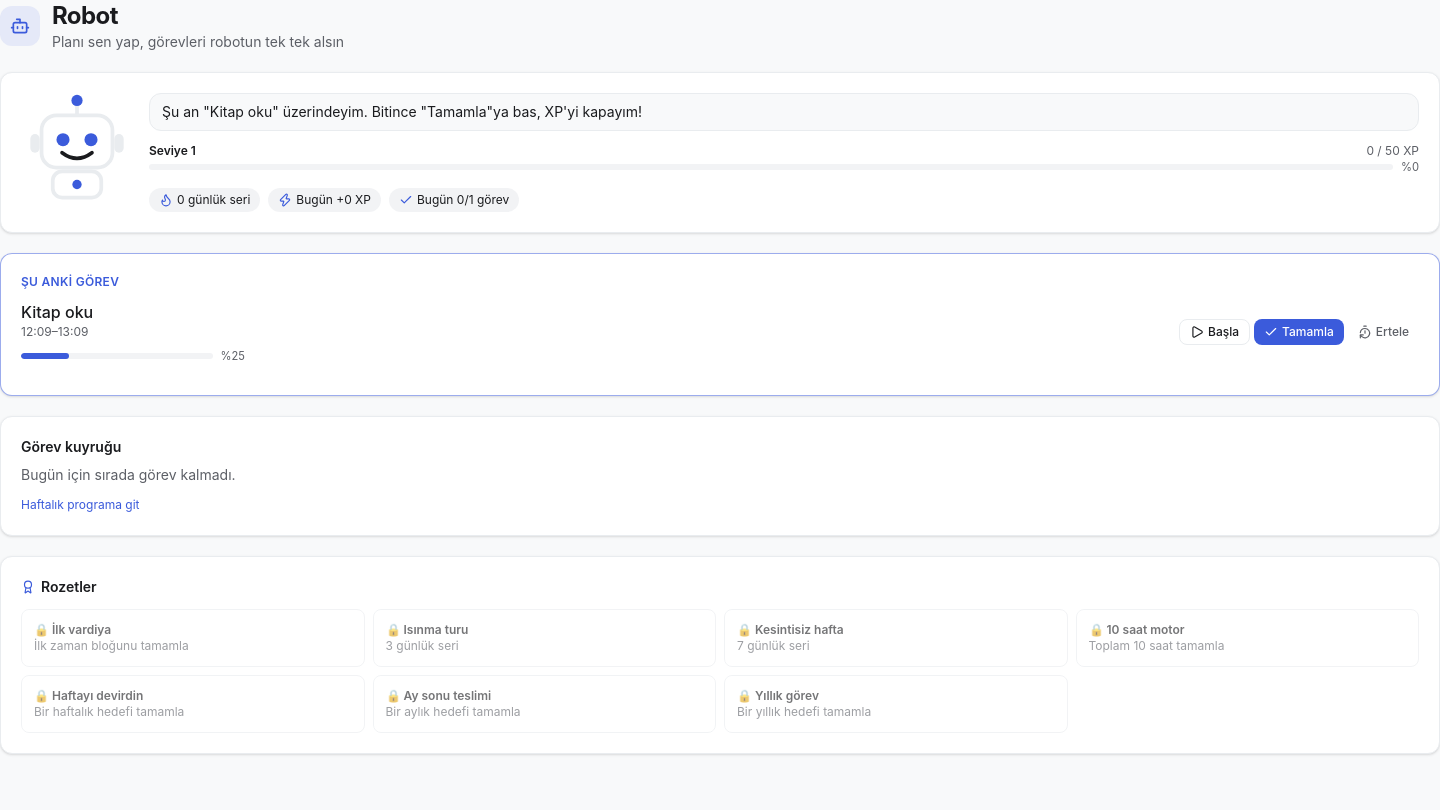
RobotPage › şu anki görevi gösterir, tamamlayınca XP kutlaması yapar
The width and height of the screenshot is (1440, 810).
Expected: the text "Şu an \"Kitap oku\" üzerindeyim" is shown, [162,103,642,120]
Click the button "Tamamla" at point(1299, 332), box [1254,319,1344,345]
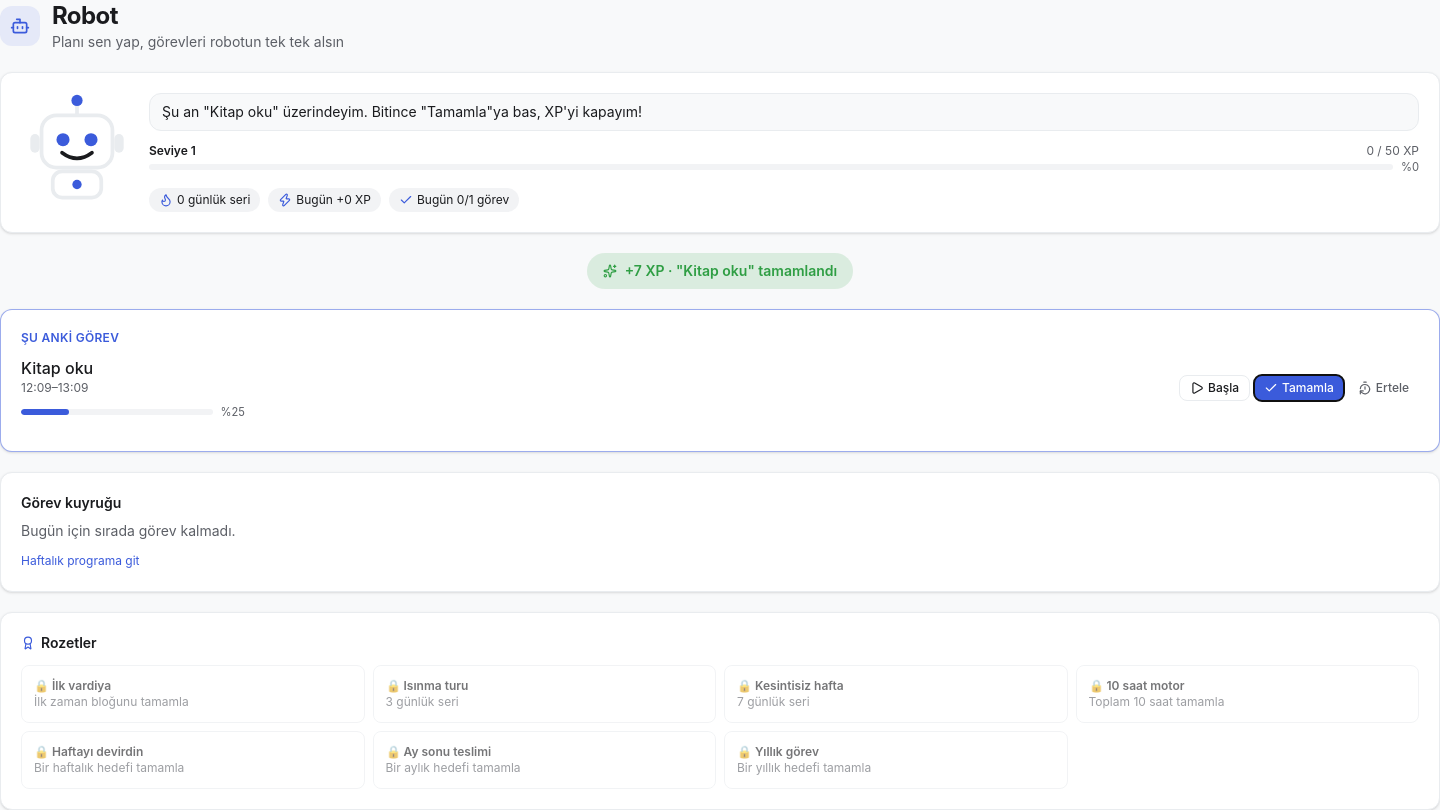
Now the text "+7 XP · \"Kitap oku\" tamamlandı" is shown, box [587,253,853,289]
